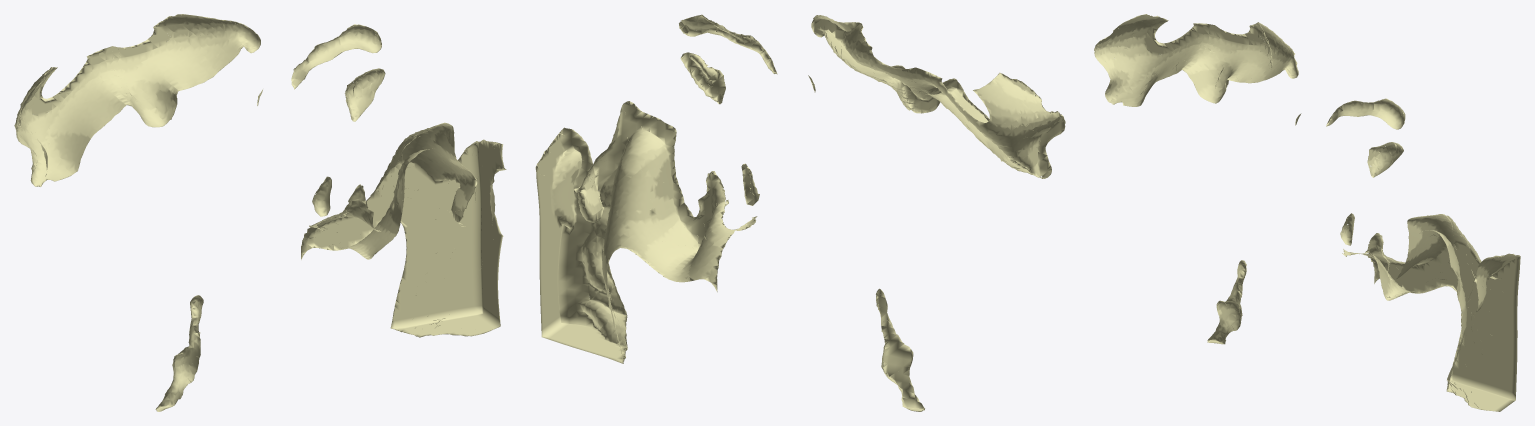
3 renders of one model, left to right at view 1: azimuth 30°, elevation 25°; view 2: azimuth 150°, elevation 25°; view 3: azimuth 330°, elevation 25°, orthographic. The views are drawn at different scales.
Visible parts, largest first — view 1: Switch_Switch_osgPicked_gmeGeoEntityGeode_Geometry_Geometry_ (×5), Switch_Switch_osgPicked_gmeGeoEntityGeode_Geometry_0; view 2: Switch_Switch_osgPicked_gmeGeoEntityGeode_Geometry_Geometry_ (×4), Switch_Switch_osgPicked_gmeGeoEntityGeode_Geometry_0; view 3: Switch_Switch_osgPicked_gmeGeoEntityGeode_Geometry_Geometry_ (×4), Switch_Switch_osgPicked_gmeGeoEntityGeode_Geometry_0.
Boxes of the visible parts, x1,y1,x2,y2 form: Switch_Switch_osgPicked_gmeGeoEntityGeode_Geometry_Geometry_ (×5): (155, 24, 506, 411); Switch_Switch_osgPicked_gmeGeoEntityGeode_Geometry_0: (14, 14, 260, 186); Switch_Switch_osgPicked_gmeGeoEntityGeode_Geometry_Geometry_ (×4): (535, 14, 924, 411); Switch_Switch_osgPicked_gmeGeoEntityGeode_Geometry_0: (811, 15, 1065, 178); Switch_Switch_osgPicked_gmeGeoEntityGeode_Geometry_Geometry_ (×4): (1207, 98, 1520, 411); Switch_Switch_osgPicked_gmeGeoEntityGeode_Geometry_0: (1094, 14, 1298, 106).
Size of what is drawn, in the model's own units: 35869 by 26526 by 4170.
